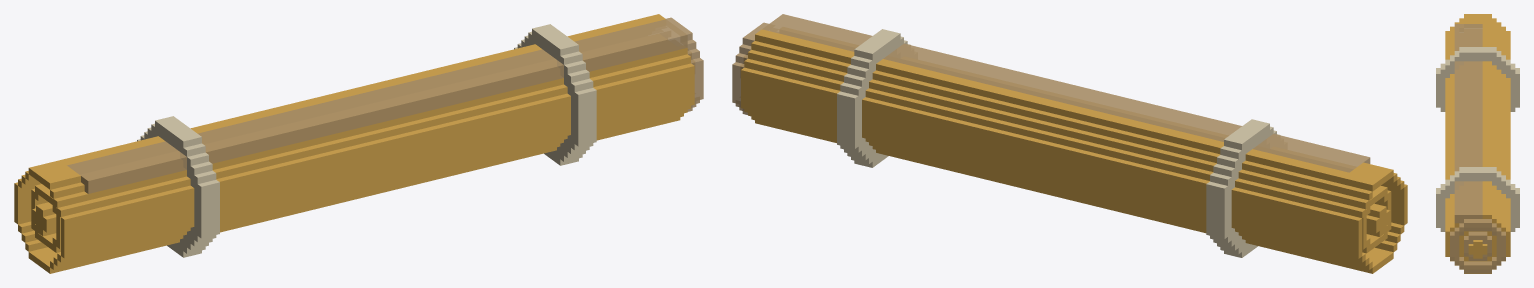
The model's file is cured_hide.glb.
3 views of the same model, side by side, from view 1: azimuth 30°, elevation 25°; view 2: azimuth 150°, elevation 25°; view 3: azimuth 270°, elevation 25° (orthographic). The views are drawn at different scales.
Visible parts, largest first — view 1: cured_hide:compound; view 2: cured_hide:compound; view 3: cured_hide:compound.
Boxes of the visible parts, bbox=[...] form: cured_hide:compound: bbox=[14, 14, 703, 273]; cured_hide:compound: bbox=[732, 14, 1407, 273]; cured_hide:compound: bbox=[1436, 14, 1519, 273].
Size of the model in its own units: 0.21 by 0.036 by 0.036.
